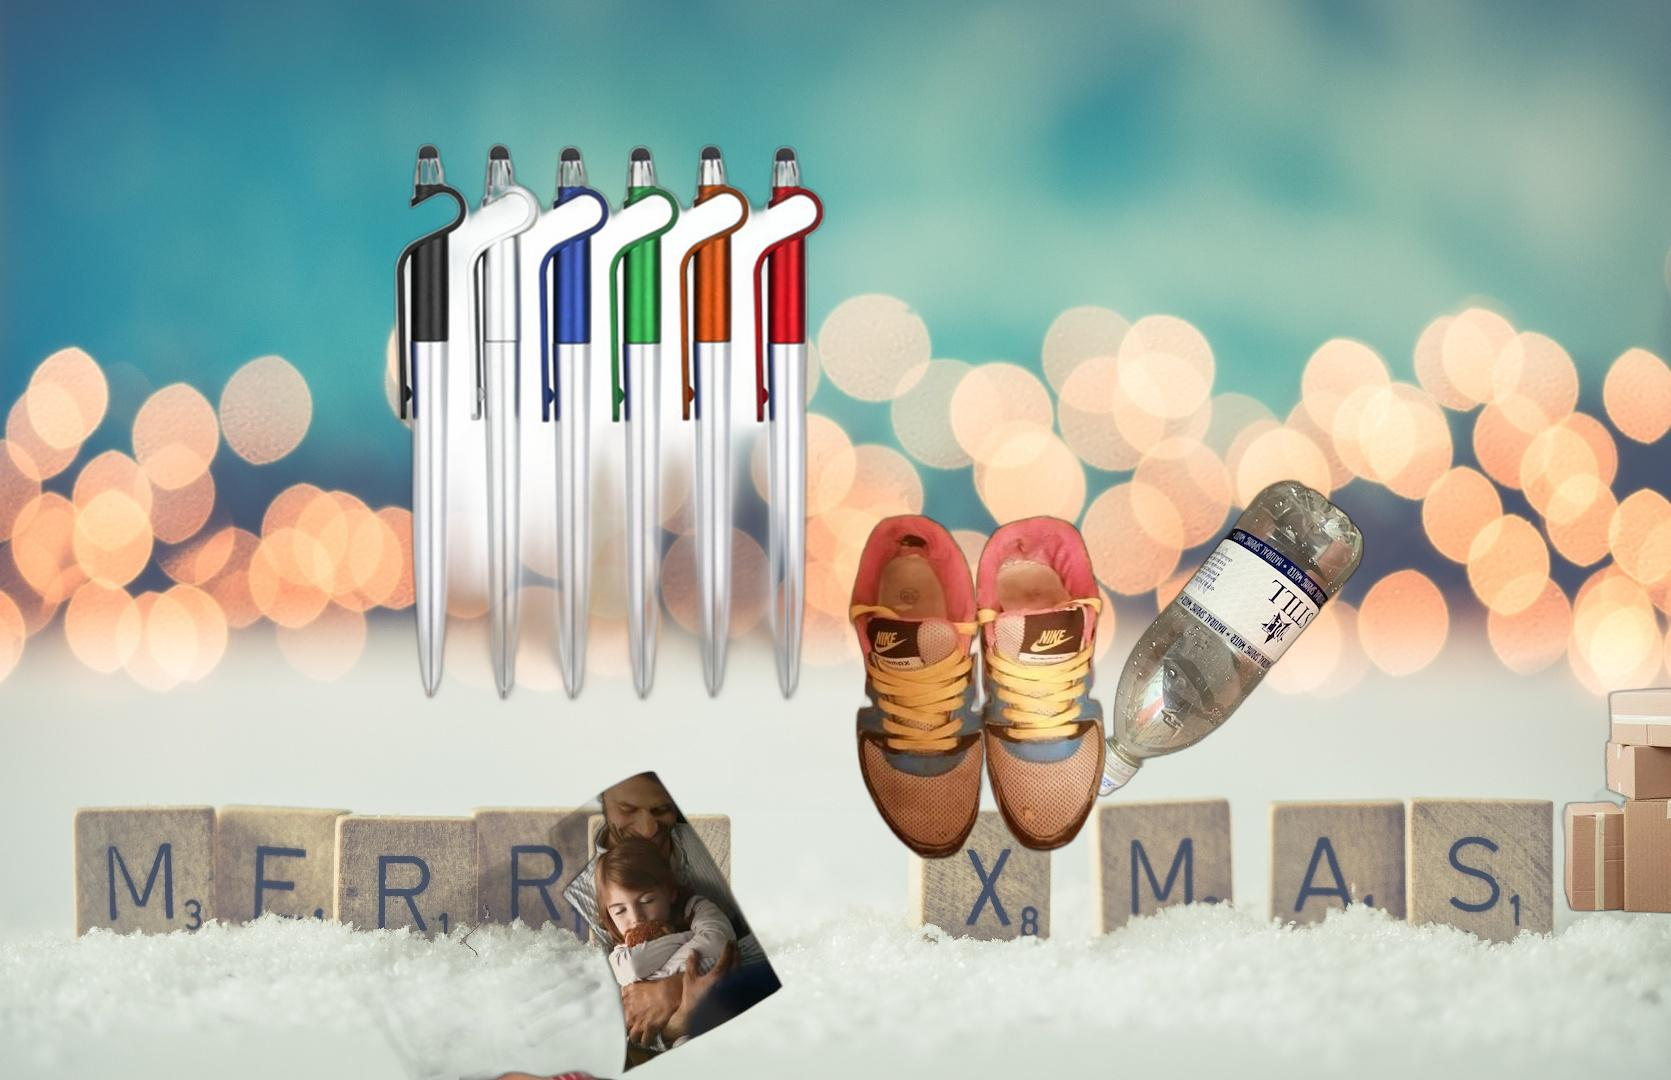paper: (353, 768, 787, 1080)
penholder: (389, 138, 976, 812)
plastic-bottles: (1080, 475, 1367, 802)
shoes: (845, 510, 1110, 864)
trashbox-cardboard: (1557, 554, 1671, 949), (459, 1034, 835, 1080)
